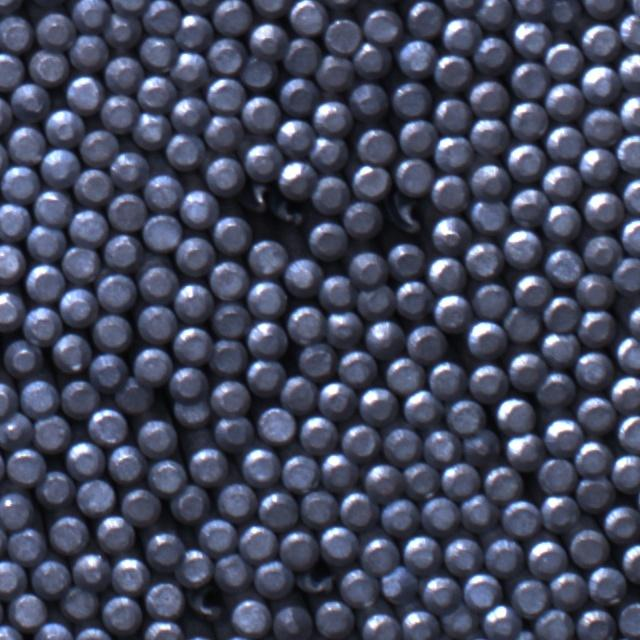tool: (101, 595, 141, 637), (230, 598, 272, 638), (189, 445, 230, 485), (315, 600, 356, 640), (49, 515, 90, 555), (362, 461, 403, 501), (169, 483, 210, 523), (421, 574, 462, 614), (258, 490, 298, 530), (338, 566, 378, 606), (527, 538, 567, 578), (132, 345, 172, 385), (586, 565, 626, 605), (65, 439, 105, 479), (180, 188, 220, 228), (485, 535, 525, 575), (444, 535, 484, 575), (568, 526, 608, 566), (582, 190, 622, 230), (428, 360, 468, 400), (308, 220, 348, 260), (279, 529, 318, 570), (321, 525, 360, 566), (403, 533, 442, 574), (461, 494, 502, 533), (174, 282, 213, 323), (504, 227, 543, 268), (247, 318, 288, 357), (137, 303, 176, 344), (51, 333, 90, 374), (20, 379, 60, 418), (394, 157, 434, 196), (122, 486, 162, 525), (238, 522, 278, 561), (136, 417, 176, 456), (547, 570, 586, 610), (97, 271, 136, 311), (32, 558, 71, 598), (88, 352, 128, 391), (358, 386, 397, 426), (60, 378, 100, 417), (241, 445, 280, 485), (256, 558, 296, 597), (362, 535, 402, 574), (172, 325, 211, 365), (541, 494, 581, 533), (248, 237, 288, 276), (298, 414, 338, 453), (109, 150, 148, 190), (24, 263, 64, 302), (40, 149, 79, 189), (466, 318, 506, 357), (363, 319, 403, 358), (36, 469, 76, 508), (320, 450, 359, 490), (87, 406, 128, 444), (145, 528, 183, 569), (404, 390, 445, 428), (509, 578, 548, 617), (312, 174, 351, 213), (198, 517, 237, 556), (107, 192, 146, 231), (33, 413, 72, 452), (470, 363, 509, 402), (319, 380, 358, 419), (283, 257, 322, 296), (340, 489, 379, 528), (45, 107, 84, 146), (24, 304, 62, 344), (281, 455, 321, 493), (218, 482, 258, 520), (502, 498, 542, 536), (60, 287, 98, 327), (93, 314, 133, 352), (408, 325, 448, 363), (77, 476, 117, 514), (286, 303, 324, 343), (258, 406, 298, 444), (300, 490, 340, 528), (484, 464, 524, 502), (420, 495, 460, 533), (246, 280, 286, 318), (398, 40, 436, 80), (96, 514, 136, 552), (71, 552, 111, 590), (28, 48, 68, 86), (338, 347, 378, 385), (434, 292, 472, 332), (582, 64, 620, 104), (468, 80, 508, 118), (462, 572, 502, 610), (177, 548, 215, 588), (325, 308, 363, 348), (36, 12, 74, 52), (510, 187, 548, 227), (314, 53, 354, 91), (440, 461, 481, 498), (504, 432, 545, 469), (3, 339, 42, 377), (7, 447, 46, 485), (12, 84, 50, 123), (8, 593, 46, 632), (207, 157, 245, 196), (423, 429, 462, 467), (348, 250, 387, 288), (81, 128, 120, 166), (214, 552, 253, 590), (212, 216, 251, 254), (383, 427, 422, 465), (250, 21, 289, 59), (242, 95, 281, 133), (208, 260, 246, 299), (109, 444, 147, 483), (175, 235, 213, 274), (508, 100, 547, 138), (352, 42, 391, 80), (166, 131, 204, 170), (33, 189, 72, 227), (246, 359, 285, 397), (398, 119, 437, 157), (379, 566, 418, 604), (507, 143, 546, 181), (543, 416, 582, 454), (514, 16, 553, 54), (385, 357, 425, 394), (116, 375, 156, 412), (340, 422, 380, 459), (113, 554, 150, 594), (213, 412, 253, 449), (508, 352, 545, 392), (441, 604, 482, 640), (142, 212, 180, 250), (431, 173, 469, 211), (70, 208, 108, 246), (8, 526, 46, 564), (63, 244, 101, 282), (281, 375, 319, 413), (406, 1, 444, 39), (351, 84, 389, 122), (464, 241, 502, 279), (462, 428, 500, 466), (543, 162, 581, 200), (580, 22, 618, 60), (144, 172, 182, 210), (138, 266, 176, 304), (584, 108, 622, 146), (578, 396, 616, 434), (132, 112, 170, 150), (381, 497, 420, 534), (1, 164, 38, 203), (342, 201, 381, 238), (482, 603, 521, 640), (575, 349, 612, 388), (75, 168, 114, 205), (352, 162, 391, 199), (210, 379, 249, 416), (579, 146, 618, 183), (69, 35, 108, 72), (471, 165, 510, 202), (494, 396, 534, 432), (314, 101, 354, 137), (469, 197, 509, 233), (312, 134, 352, 170), (278, 162, 314, 202), (324, 17, 362, 54), (104, 233, 142, 270), (544, 247, 582, 284), (446, 399, 484, 436), (8, 125, 45, 163), (575, 439, 613, 476), (404, 462, 441, 500), (583, 235, 621, 272), (545, 84, 582, 122), (284, 37, 321, 75), (428, 213, 466, 250), (544, 39, 582, 76), (318, 272, 355, 310), (105, 56, 143, 93), (471, 117, 509, 154), (279, 78, 316, 116), (474, 38, 512, 75), (204, 115, 242, 152), (149, 458, 188, 494), (364, 7, 403, 43), (273, 604, 312, 640), (357, 127, 396, 163), (66, 75, 102, 114), (393, 79, 432, 115), (59, 586, 98, 622), (26, 225, 65, 261), (432, 134, 471, 170), (426, 256, 465, 292), (389, 244, 426, 281), (435, 52, 472, 89), (576, 311, 613, 348), (176, 14, 213, 51), (474, 281, 512, 317), (577, 476, 615, 512), (577, 272, 615, 308), (356, 284, 394, 320), (146, 581, 184, 617), (101, 93, 137, 131), (136, 74, 174, 110), (538, 457, 576, 493), (510, 61, 548, 97), (433, 96, 471, 132), (276, 118, 314, 154), (246, 142, 282, 180), (174, 51, 212, 87), (0, 410, 35, 449), (512, 272, 551, 307), (603, 506, 640, 542), (290, 0, 327, 36), (544, 203, 580, 240), (208, 78, 245, 114), (300, 341, 336, 378), (210, 338, 247, 374), (442, 16, 479, 52), (170, 96, 207, 132), (397, 279, 432, 317), (546, 125, 584, 160), (502, 308, 540, 343), (214, 0, 253, 34), (575, 607, 615, 640), (534, 608, 575, 640), (209, 36, 245, 72), (543, 296, 579, 332), (212, 302, 248, 338), (538, 369, 576, 403), (169, 367, 208, 400), (143, 0, 181, 33), (359, 610, 400, 640), (401, 608, 439, 640), (0, 491, 32, 529), (71, 0, 109, 32), (0, 202, 31, 240), (0, 14, 32, 50), (611, 452, 640, 491), (242, 56, 276, 87), (0, 558, 26, 597), (612, 372, 640, 408), (0, 244, 25, 284), (0, 289, 23, 331), (112, 16, 142, 48), (0, 51, 24, 90), (614, 258, 640, 294), (617, 134, 640, 173), (617, 413, 640, 450), (144, 619, 184, 640), (619, 601, 640, 639), (619, 52, 640, 90), (32, 621, 73, 640), (619, 11, 640, 48), (0, 377, 19, 417), (622, 541, 640, 583), (583, 0, 625, 18), (622, 217, 640, 256), (620, 95, 640, 129), (250, 0, 292, 16), (148, 42, 176, 65), (623, 176, 640, 213), (73, 625, 113, 640), (620, 340, 640, 370), (110, 0, 152, 13), (0, 93, 11, 134), (0, 624, 24, 639), (0, 136, 8, 178), (510, 629, 539, 640), (0, 521, 8, 560)
tool_b: (184, 586, 226, 622), (387, 198, 426, 236), (297, 566, 337, 598), (269, 198, 304, 228), (243, 181, 272, 212)
